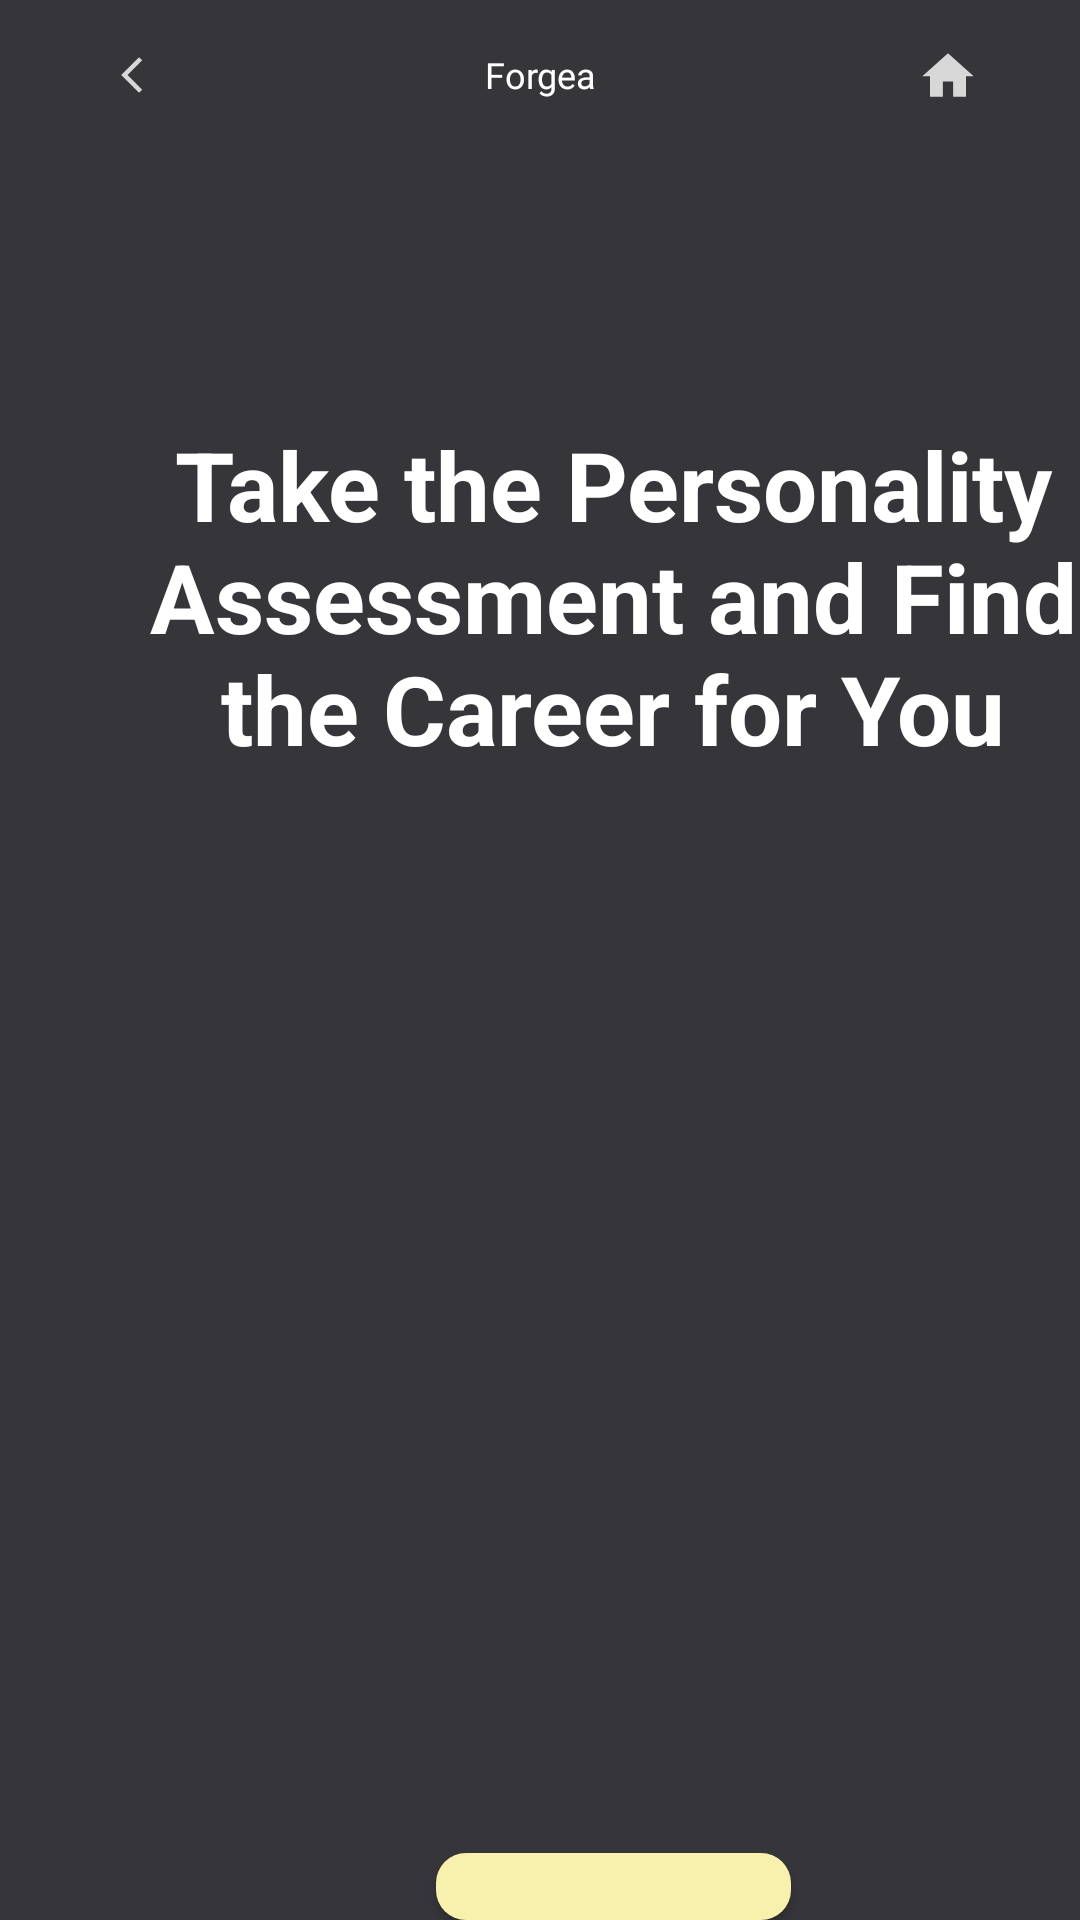

Screen size 1080w x 1920h. Icon name, then its box in pixels as (x1, y1, x2, y2):
back arrow: (121, 57, 142, 93)
home: (923, 53, 973, 97)
